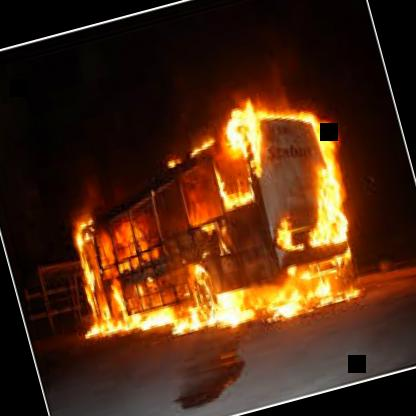fire: (29, 101, 351, 350)
